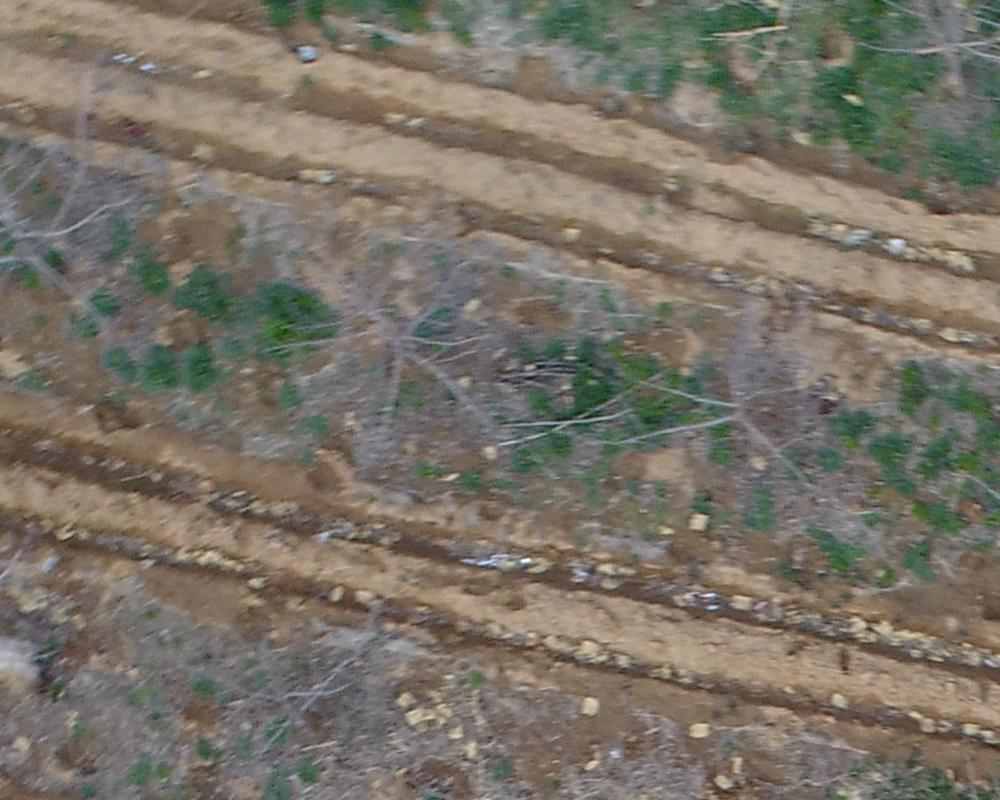apple: (278, 247, 521, 456), (627, 309, 830, 519), (10, 61, 144, 367), (199, 630, 360, 755)
